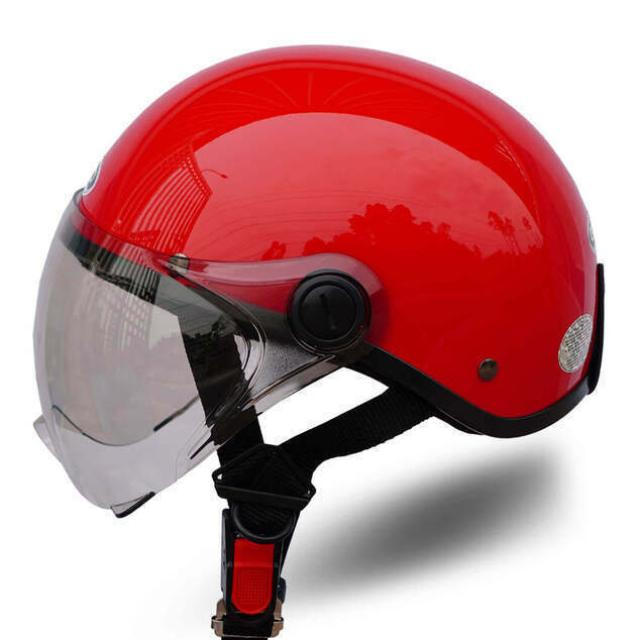Helmet: (25, 36, 618, 640)
